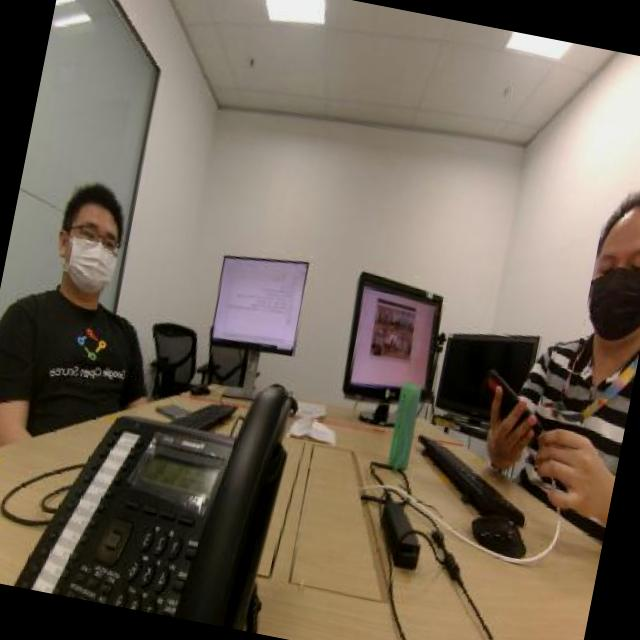Person: (500, 129, 640, 509), (2, 108, 168, 418)
